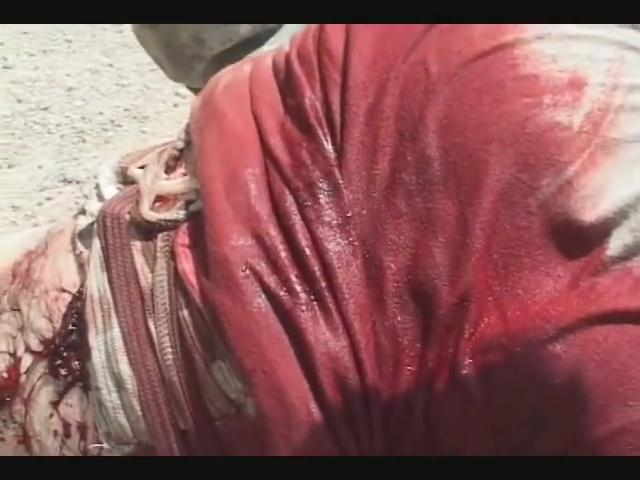Fire: (174, 25, 640, 456), (0, 297, 98, 456)
